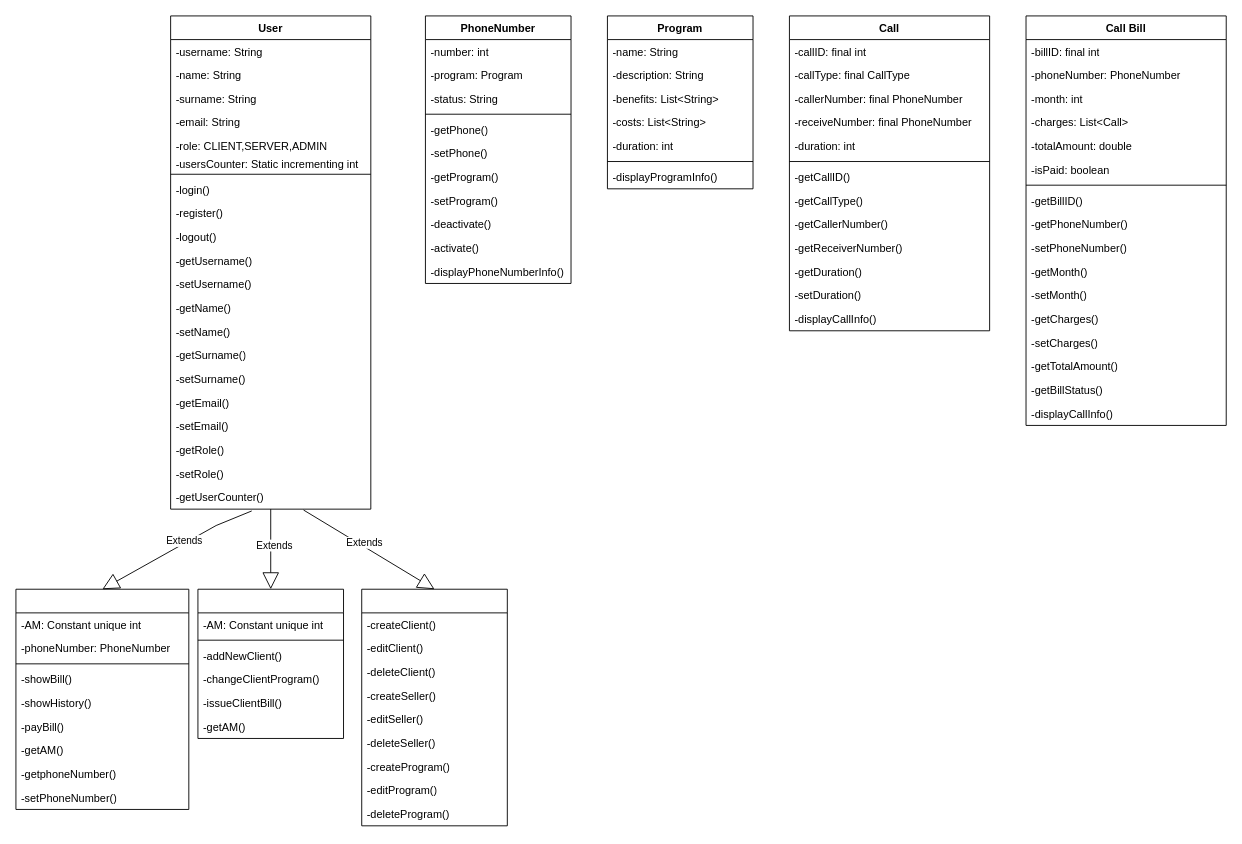
This 1242x844 diagram has some shape labels left out. The shapes that lost their labels are listed below. From the top down, each one's box as (x1, y1, x2, y2) in pixels, then its label:
(197, 588, 344, 738): Seller
(15, 588, 189, 809): Client
(361, 588, 507, 826): Admin
